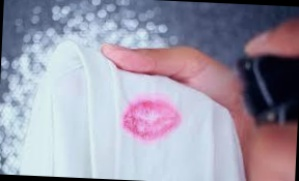lipstick: (123, 94, 186, 145)
